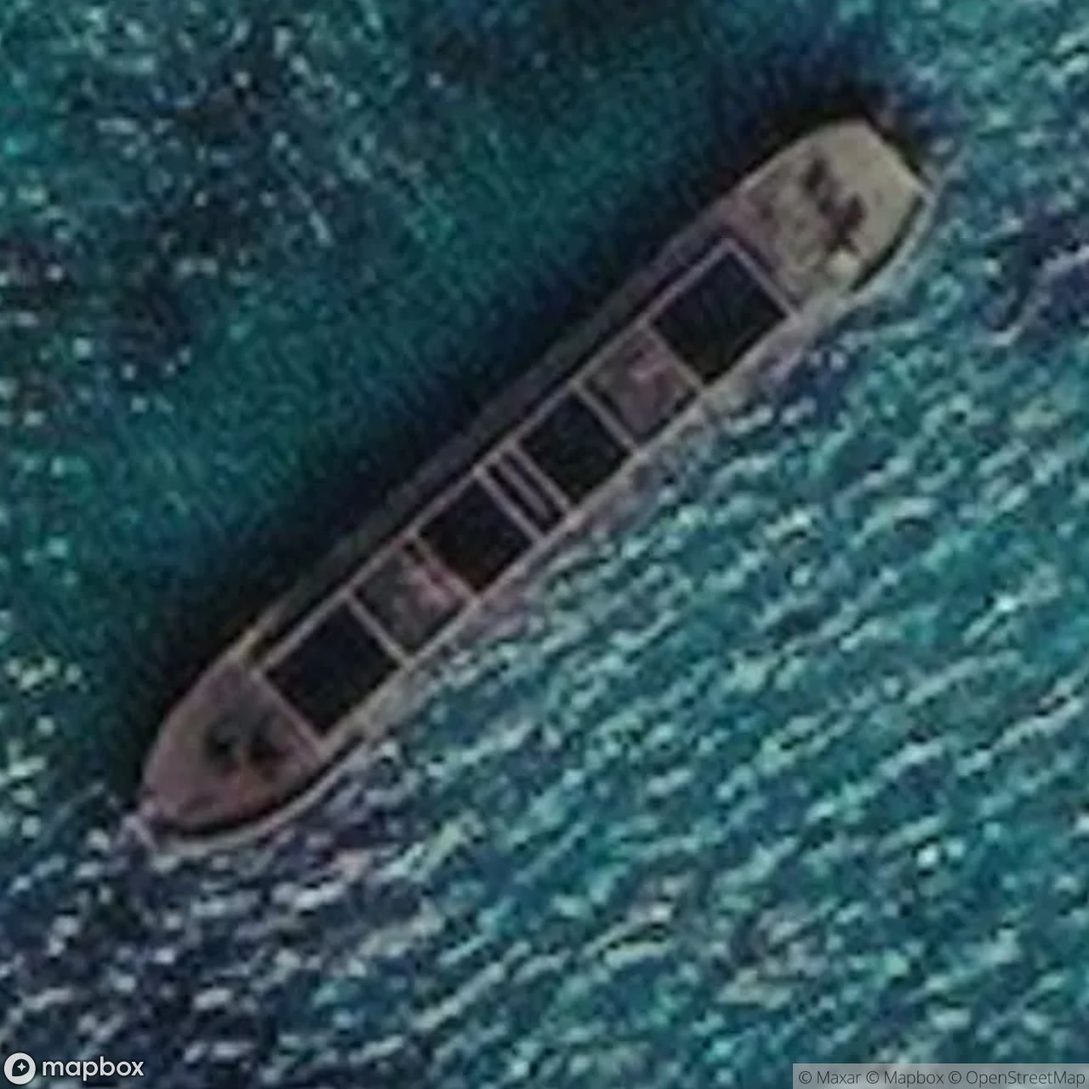Wreck: (37, 748, 1089, 1035)
